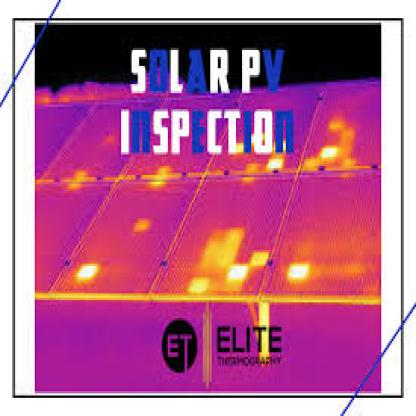Defects: (187, 275, 208, 293), (288, 264, 308, 282), (203, 257, 224, 273), (77, 266, 98, 282), (228, 264, 245, 282), (222, 227, 242, 241), (322, 143, 338, 159), (208, 241, 223, 257), (254, 248, 266, 266), (223, 243, 232, 257)
